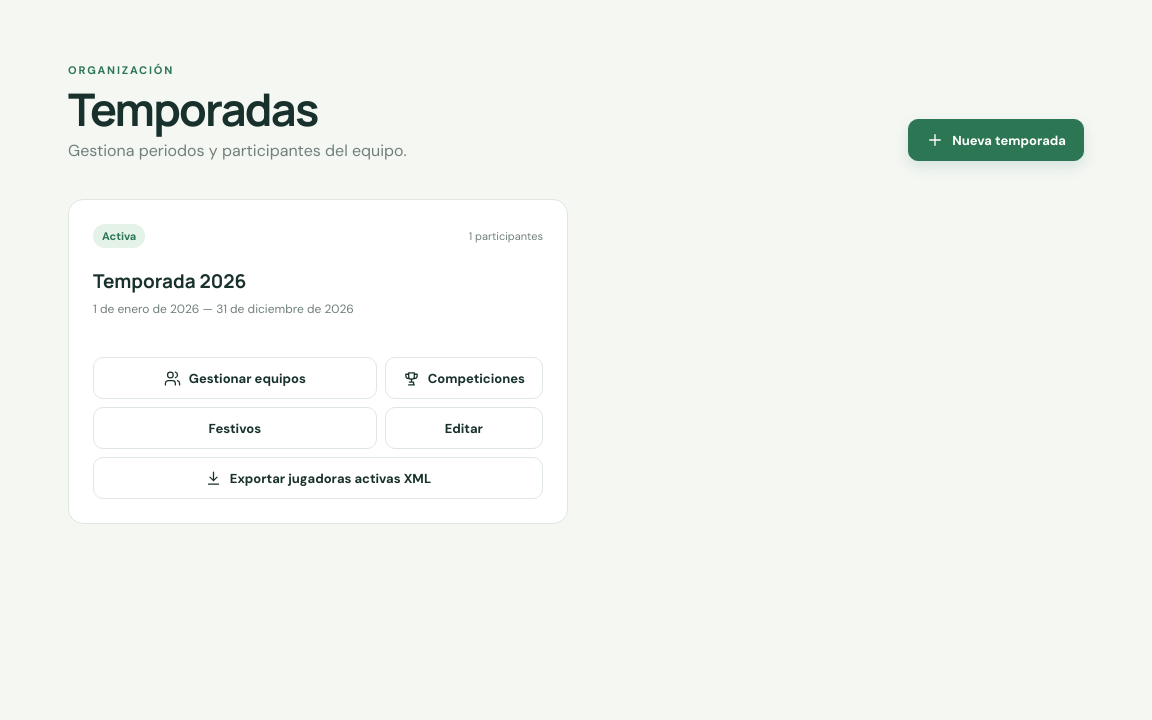
Test: SeasonsView › replaces manual memberships with team management
Expected: the button "Exportar jugadoras activas XML" is enabled, [93, 457, 543, 499]
Click the button "Gestionar equipos" at (235, 378), box [93, 357, 377, 399]
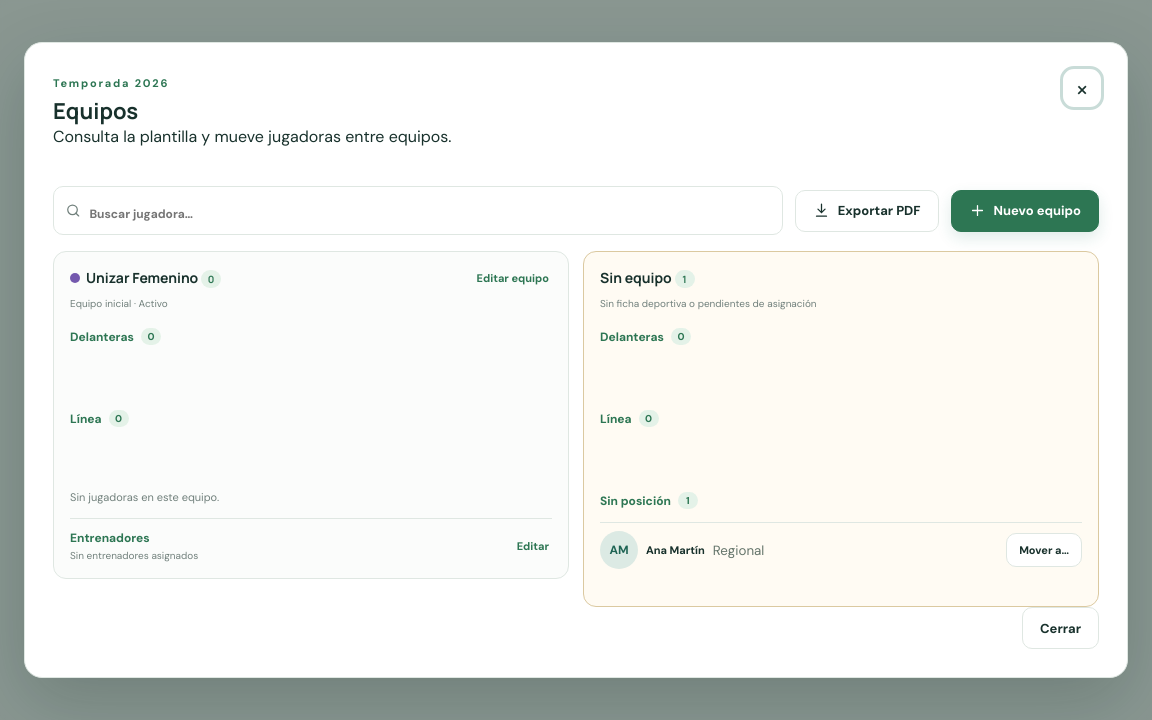
Expected: the heading "Equipos" is shown, [53, 96, 138, 126]
